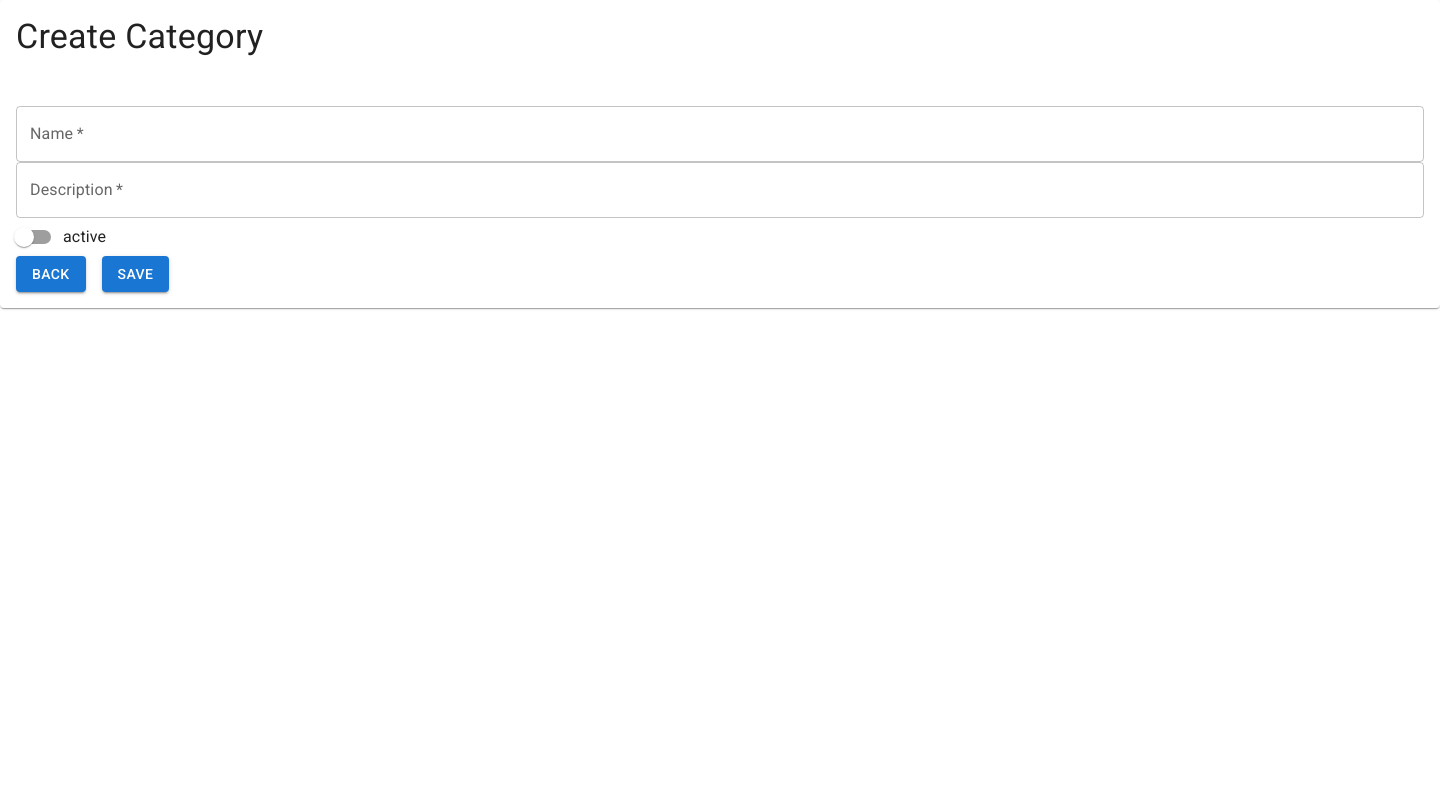
Scenario: CategoryCreate › should submit new category
The image size is (1440, 810).
Type "Test" into the field labelled "Name *" at (720,134), box [16, 106, 1424, 162]
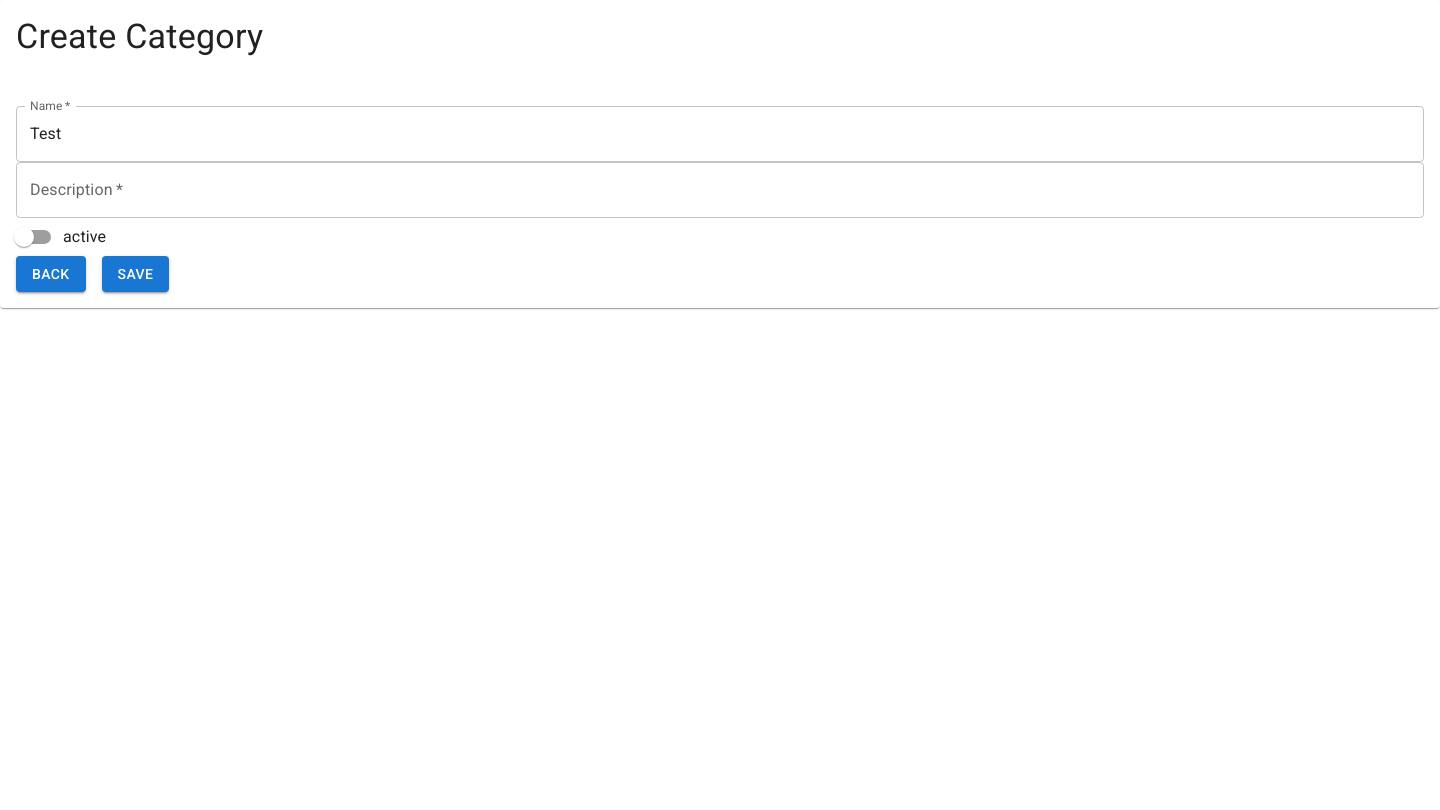
Type "Test description" into the field labelled "Description *" at (720,190), box [16, 162, 1424, 218]
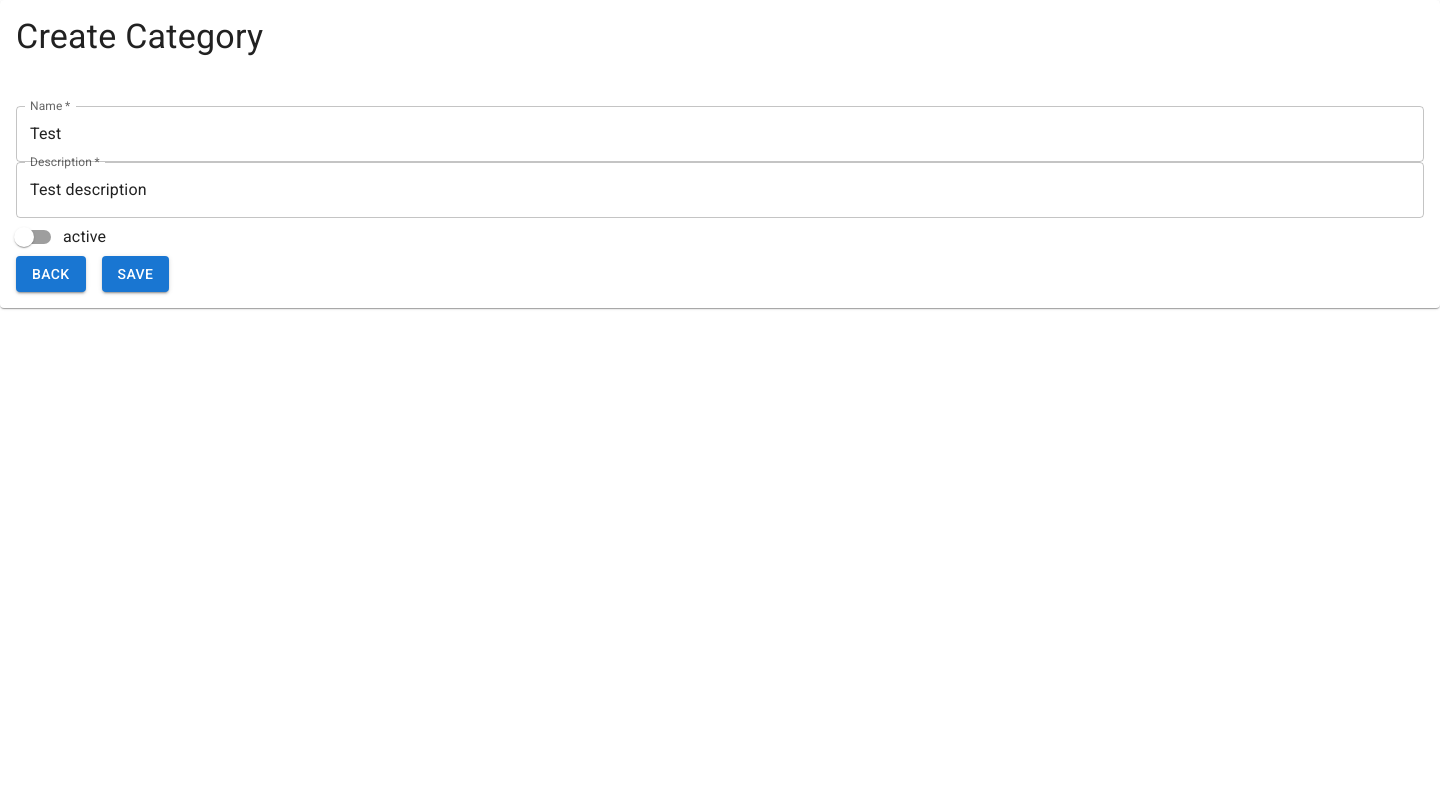
Click the button "Save" at (136,274), box [102, 256, 169, 292]
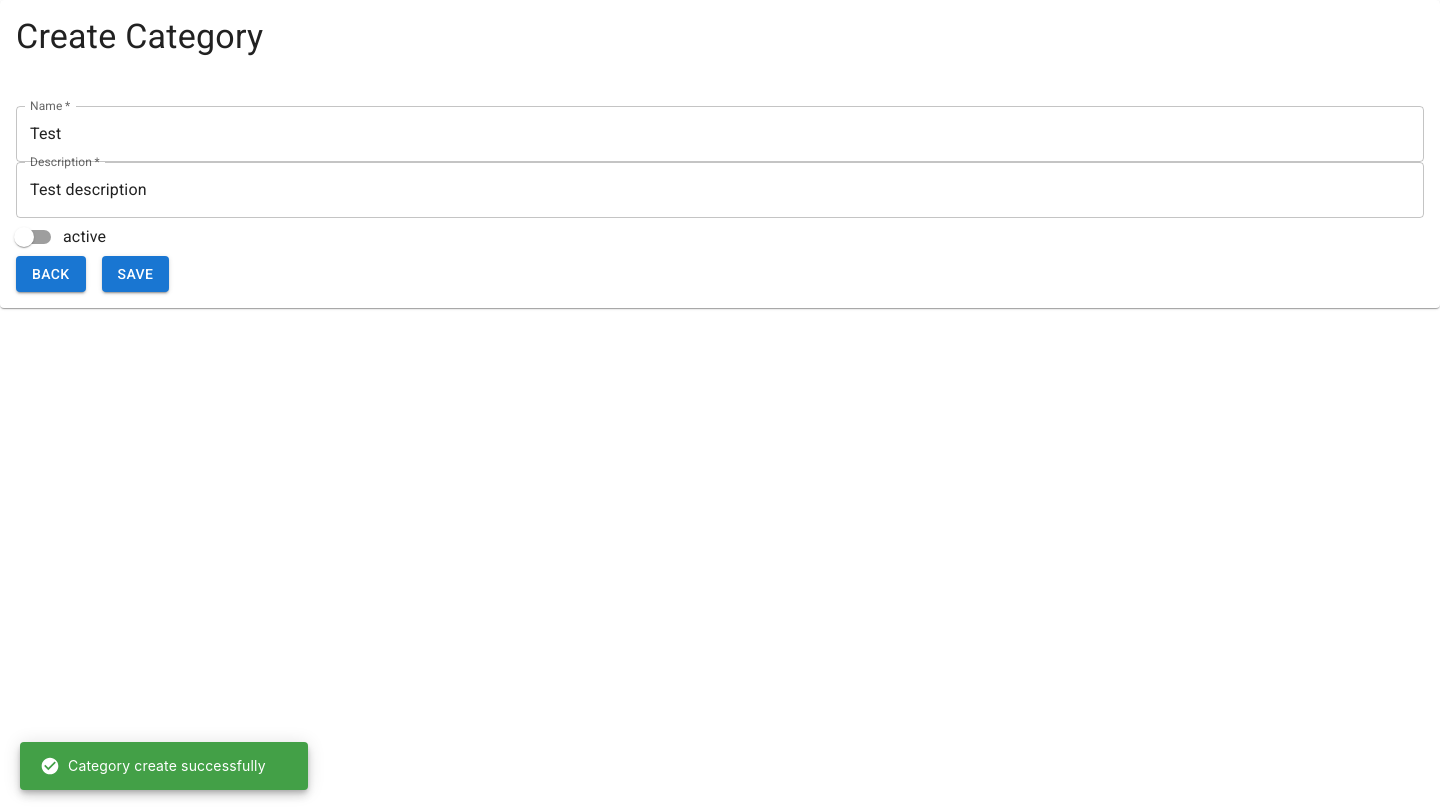
Expected: the text "Category create successfully" is shown, [40, 756, 266, 776]
